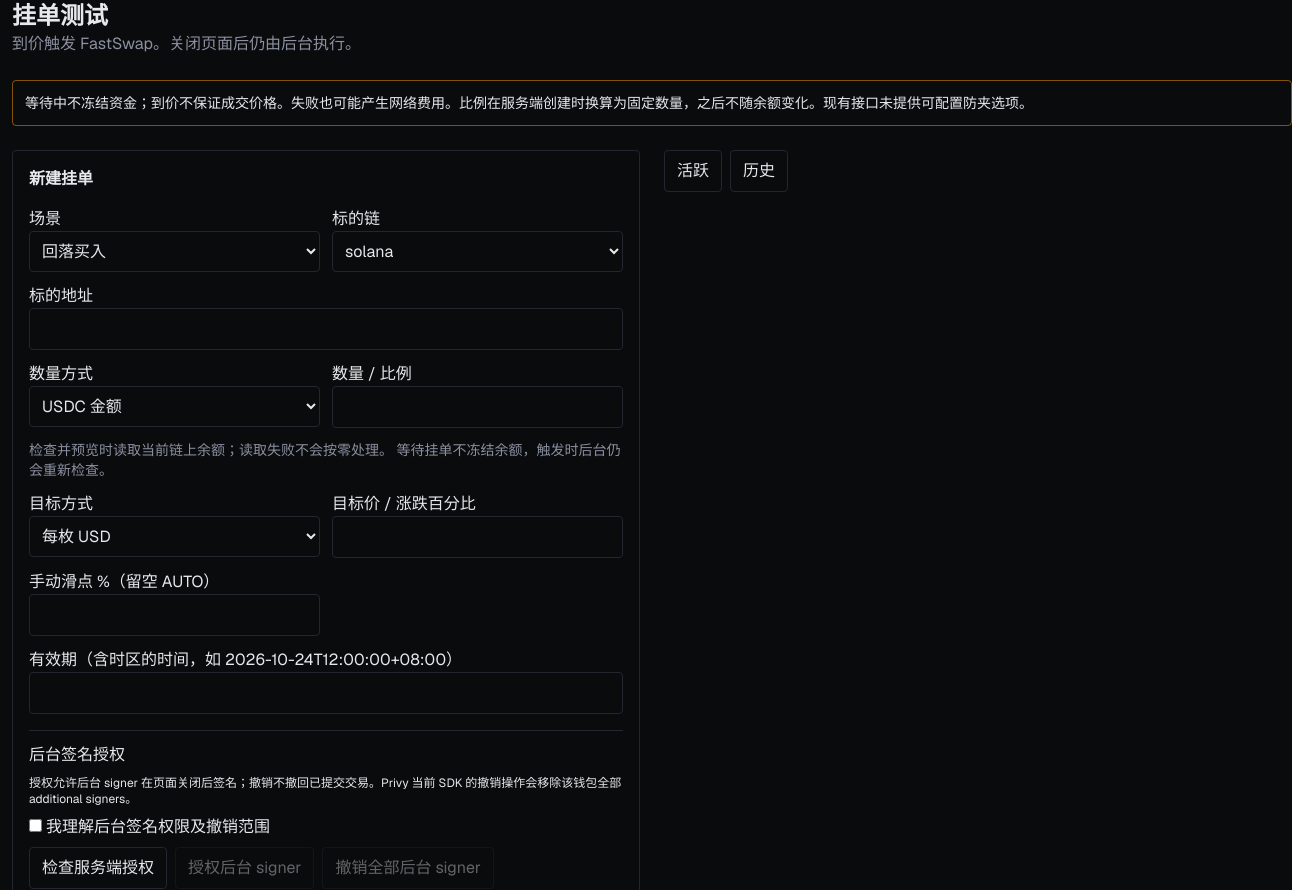
it: checks the single order against raw balance: zero
Type "So11111111111111111111111111111111111111112" into the field labelled "标的地址".
click(326, 329); type("So11111111111111111111111111111111111111112")  # box x1=29 y1=308 x2=623 y2=350
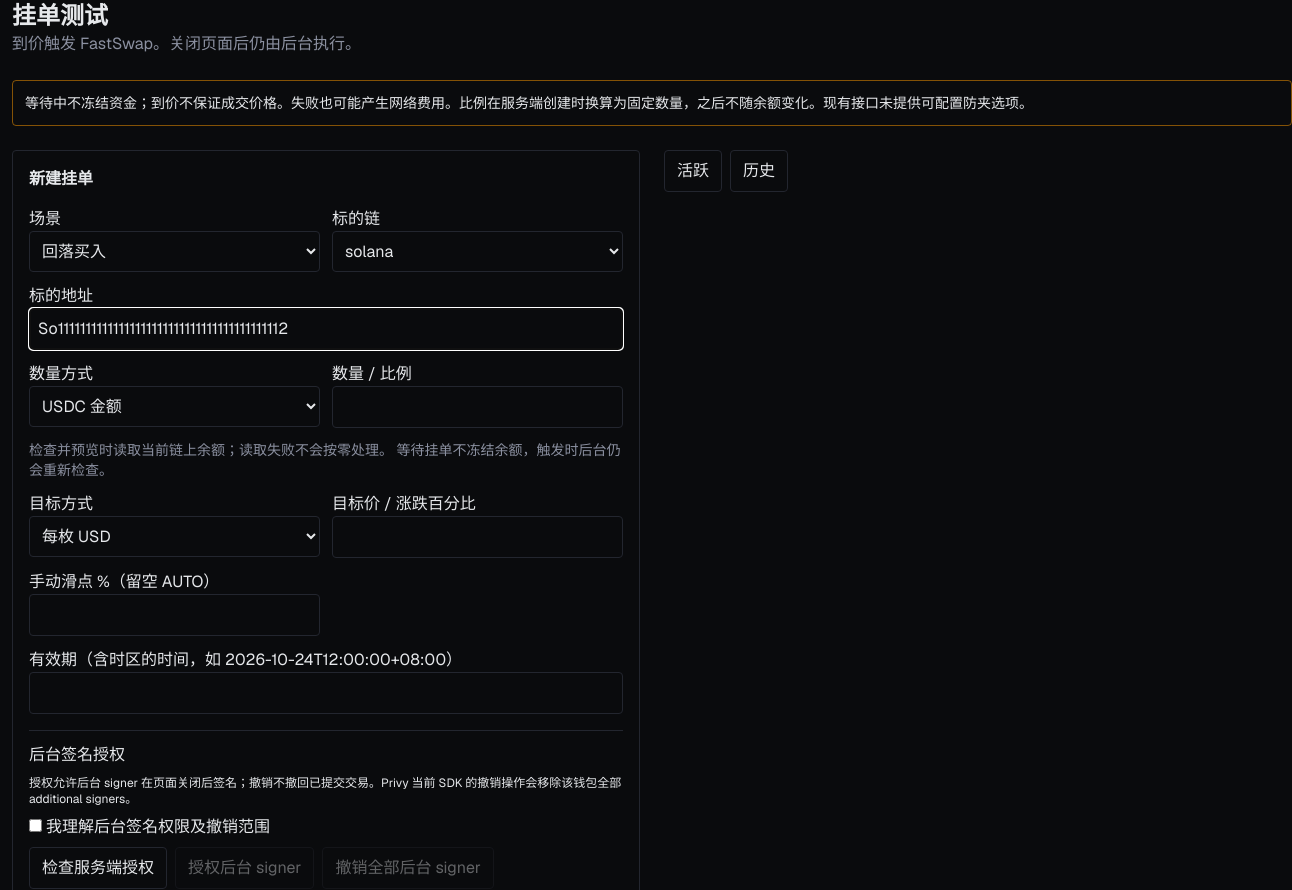
Type "1" into the field labelled "数量 / 比例".
click(478, 407); type("1")  # box x1=332 y1=386 x2=623 y2=428
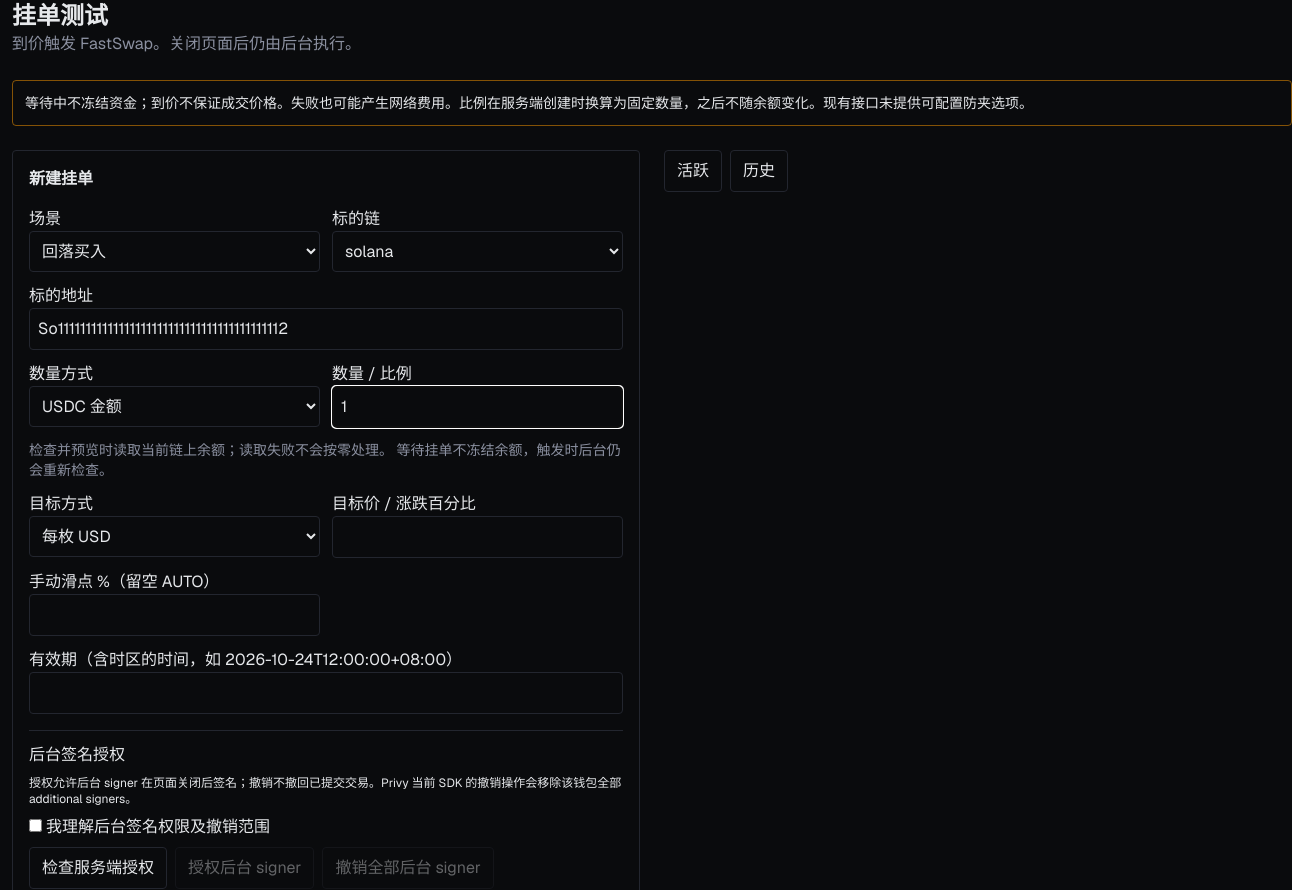
Type "2" into the field labelled "目标价 / 涨跌百分比".
click(478, 537); type("2")  # box x1=332 y1=516 x2=623 y2=558
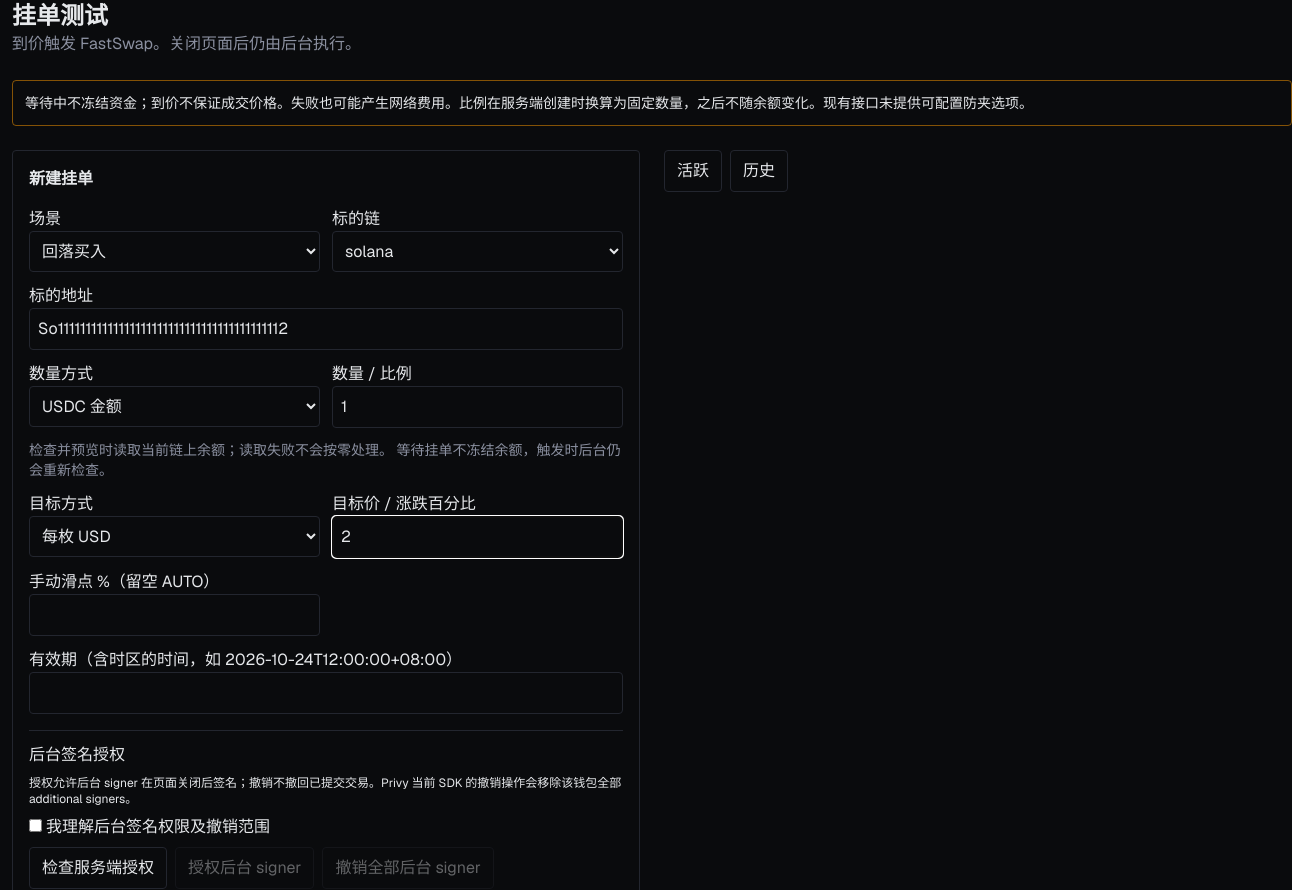
Type "2030-01-01T00:00:00Z" into the field labelled "有效期（含时区的时间，如 2026-10-24T12:00:00+08:00）".
click(326, 693); type("2030-01-01T00:00:00Z")  # box x1=29 y1=672 x2=623 y2=714
(page scrolled)
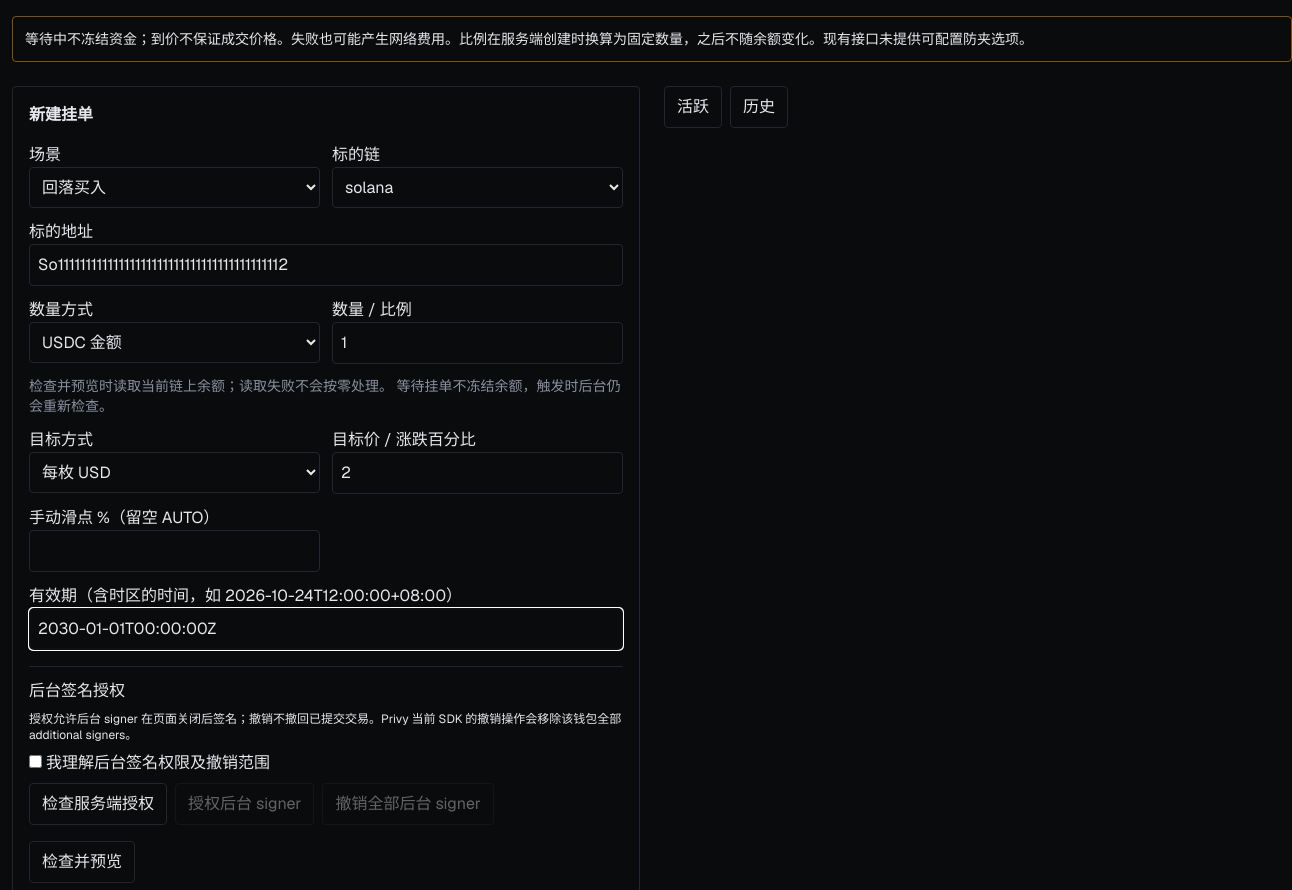
Click the button "检查并预览".
click(82, 862)  # box x1=29 y1=841 x2=135 y2=883
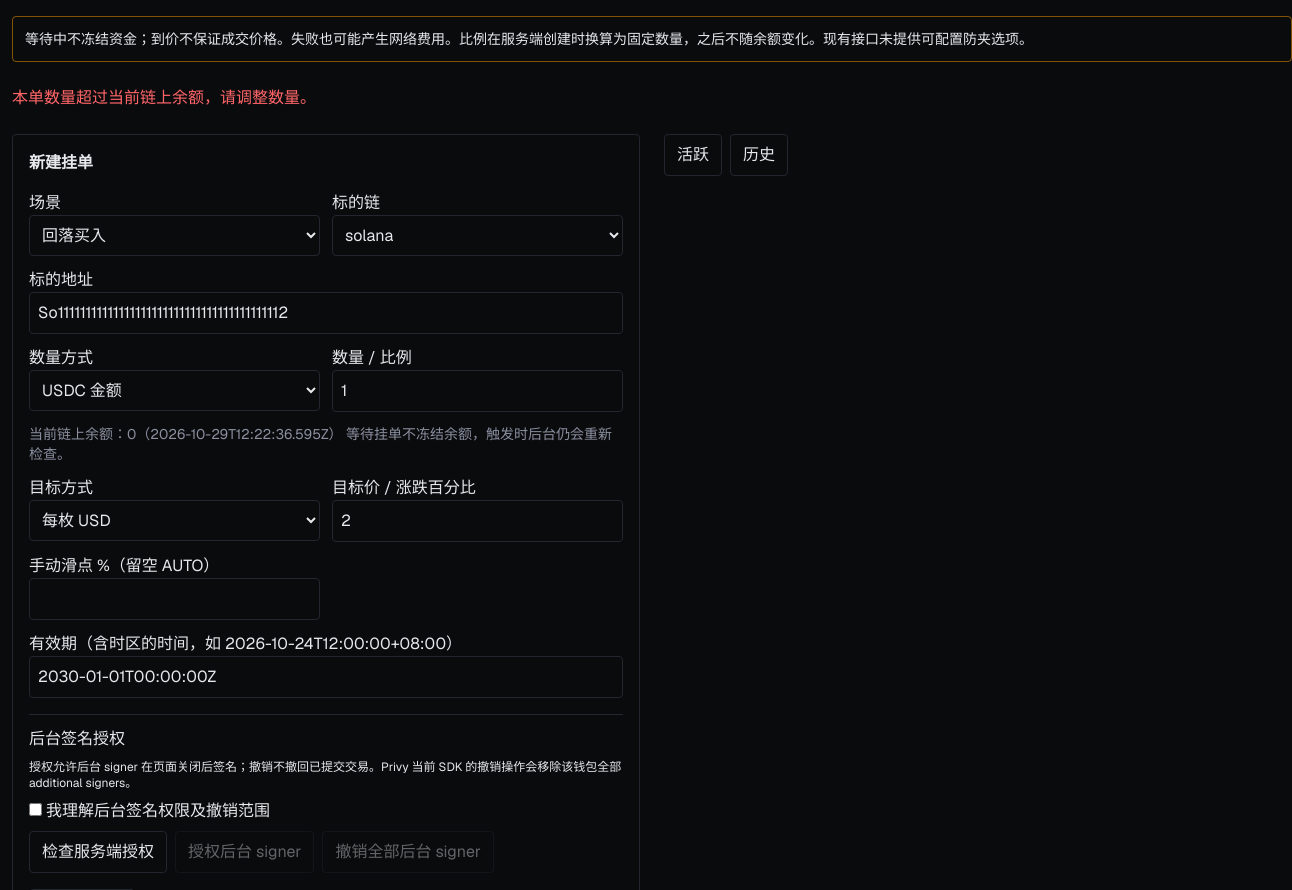
Result: the message shows "超过当前链上余额" at x1=12 y1=87 x2=316 y2=108
Result: the text "当前链上余额：0（2026-10-29T12:22:36.595Z） 等待挂单不冻结余额，触发时后台仍会重新检查。" is shown at x1=29 y1=424 x2=623 y2=464
